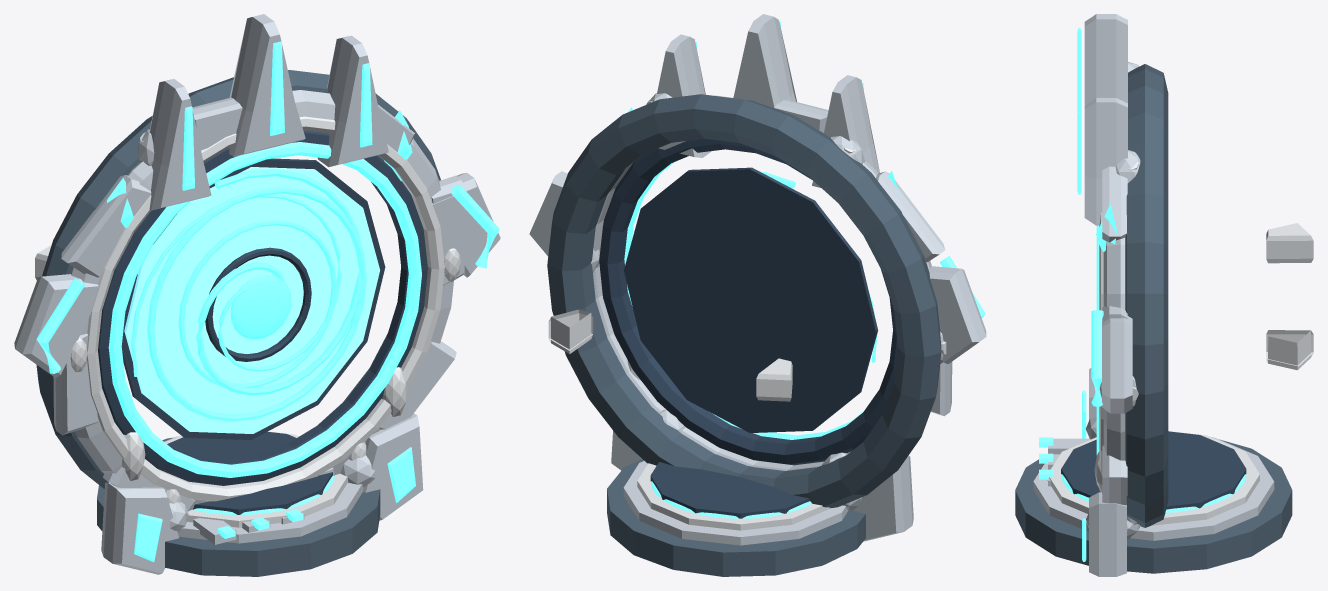
File: portal_normal.glb
The picture shows the model from 3 angles, left to right: view 1: azimuth 30°, elevation 25°; view 2: azimuth 150°, elevation 25°; view 3: azimuth 270°, elevation 25°; orthographic projection. The views are drawn at different scales.
Parts seen in each view (by area): view 1: group_silver, group_cyan, group_blue, group_black, group_ivory, group_graphite; view 2: group_black, group_graphite, group_silver, group_ivory, group_cyan; view 3: group_graphite, group_silver, group_ivory, group_black, group_cyan.
Part boxes in pixels (x1=…): group_silver: x1=14, y1=14, x2=500, y2=574; group_cyan: x1=36, y1=41, x2=499, y2=562; group_blue: x1=124, y1=167, x2=380, y2=433; group_black: x1=98, y1=130, x2=427, y2=514; group_ivory: x1=35, y1=116, x2=460, y2=527; group_graphite: x1=36, y1=70, x2=440, y2=576; group_black: x1=599, y1=138, x2=897, y2=518; group_graphite: x1=547, y1=94, x2=941, y2=576; group_silver: x1=529, y1=14, x2=986, y2=545; group_ivory: x1=548, y1=100, x2=946, y2=530; group_cyan: x1=624, y1=22, x2=985, y2=518; group_graphite: x1=1015, y1=64, x2=1292, y2=573; group_silver: x1=1033, y1=14, x2=1274, y2=576; group_ivory: x1=1047, y1=161, x2=1313, y2=526; group_black: x1=1061, y1=431, x2=1246, y2=509; group_cyan: x1=1039, y1=27, x2=1246, y2=561.
Bounding box in the file's own units: 6.74 × 7.09 × 3.77.
